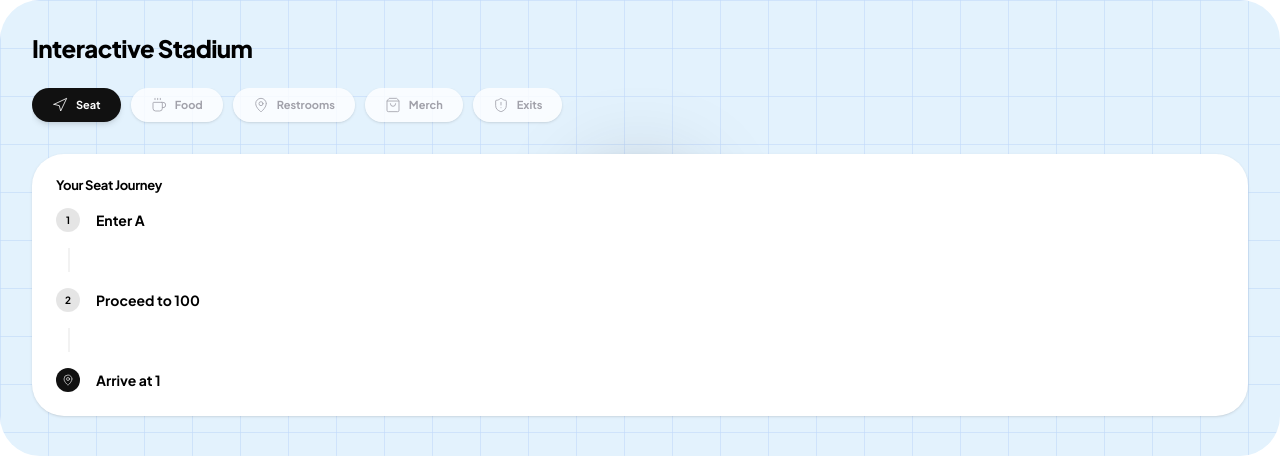
Test: StadiumMapWidget › switches to Restrooms filter
Click the button with aria-label "filter by restrooms".
click(294, 105)  # box x1=233 y1=88 x2=355 y2=122
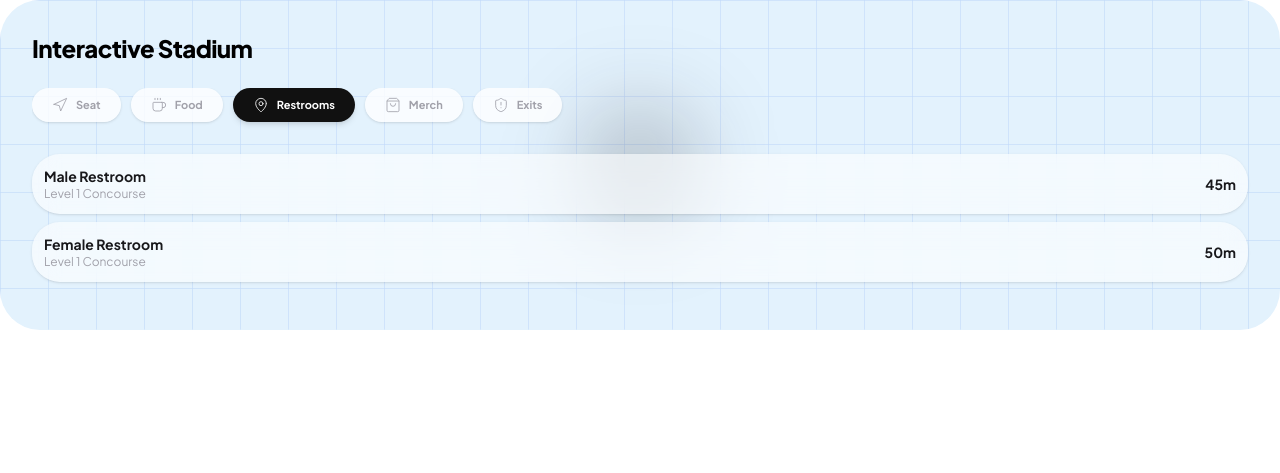
Expected: the text "Male Restroom" is shown, x1=44 y1=166 x2=146 y2=186
